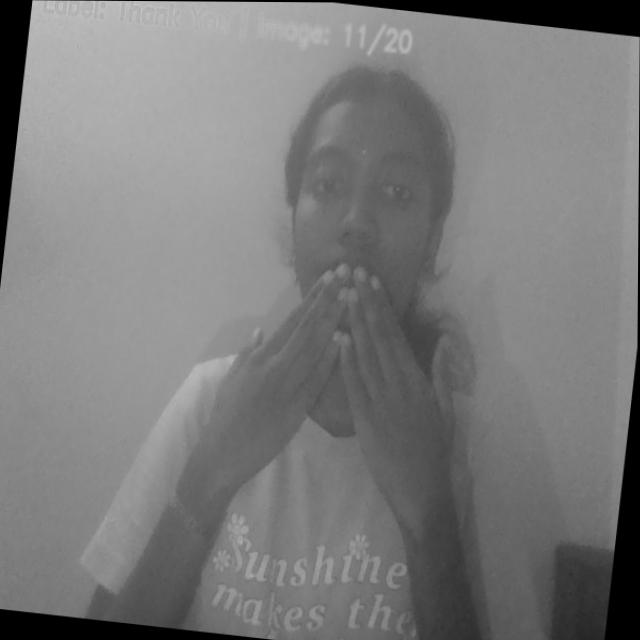Thank You: (174, 241, 489, 556)
